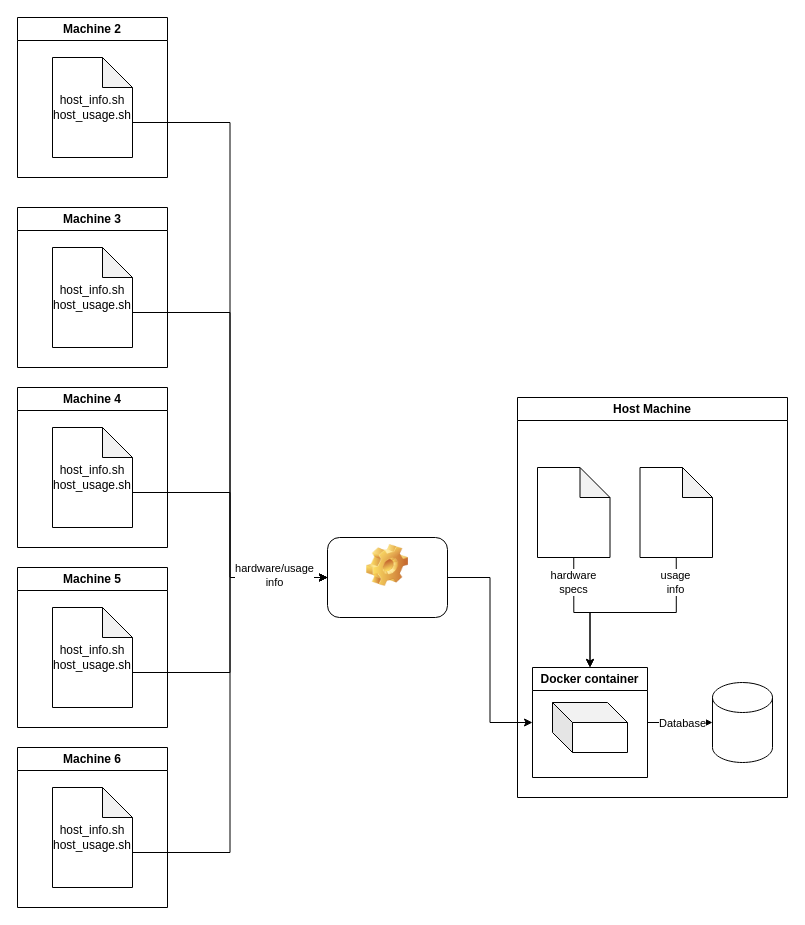
Image size: 805x925. Some labels were removed from this diagram. Each missing label, with the centre of its shape:
"host_info.sh" goes at (x=573, y=512).
"host_usage.sh" goes at (x=675, y=512).
"PSQL Server" goes at (x=590, y=727).
"Switch" goes at (x=387, y=577).
"Volume" goes at (x=742, y=722).
